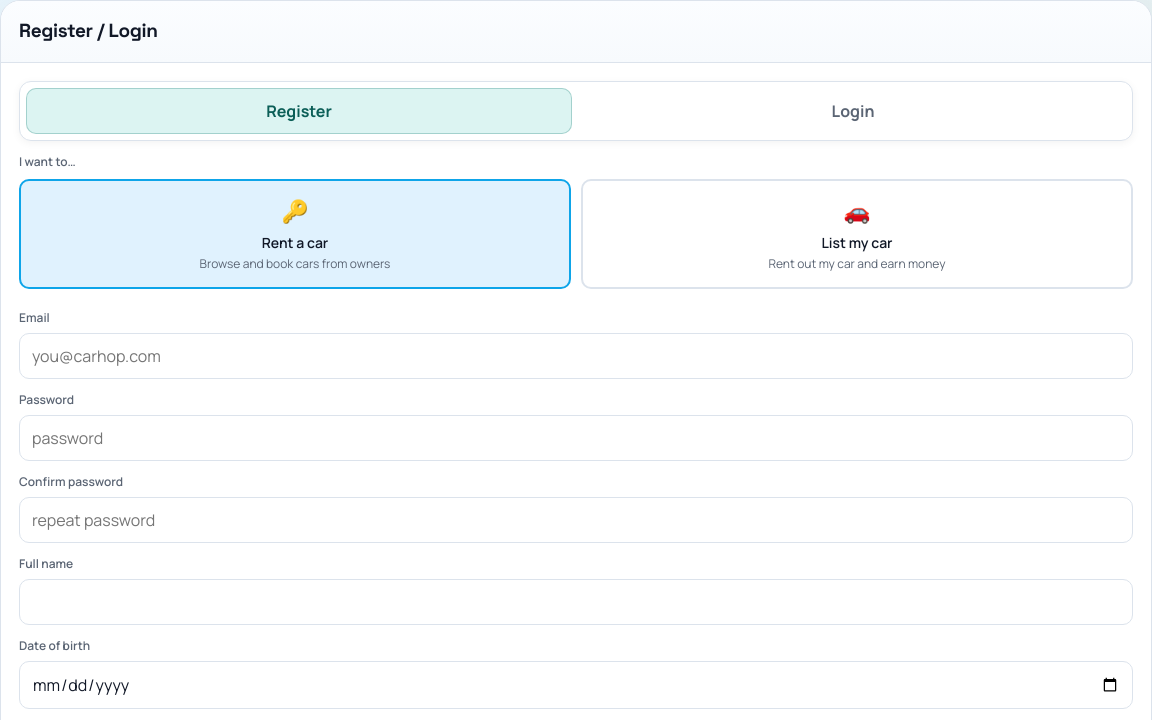
Test case: AuthPage › shows forgot-password form when 'Forgot password?' is clicked
# Switch to login mode first
Step 1. Click the button "Login" → click(853, 110), box [580,88,1126,134]
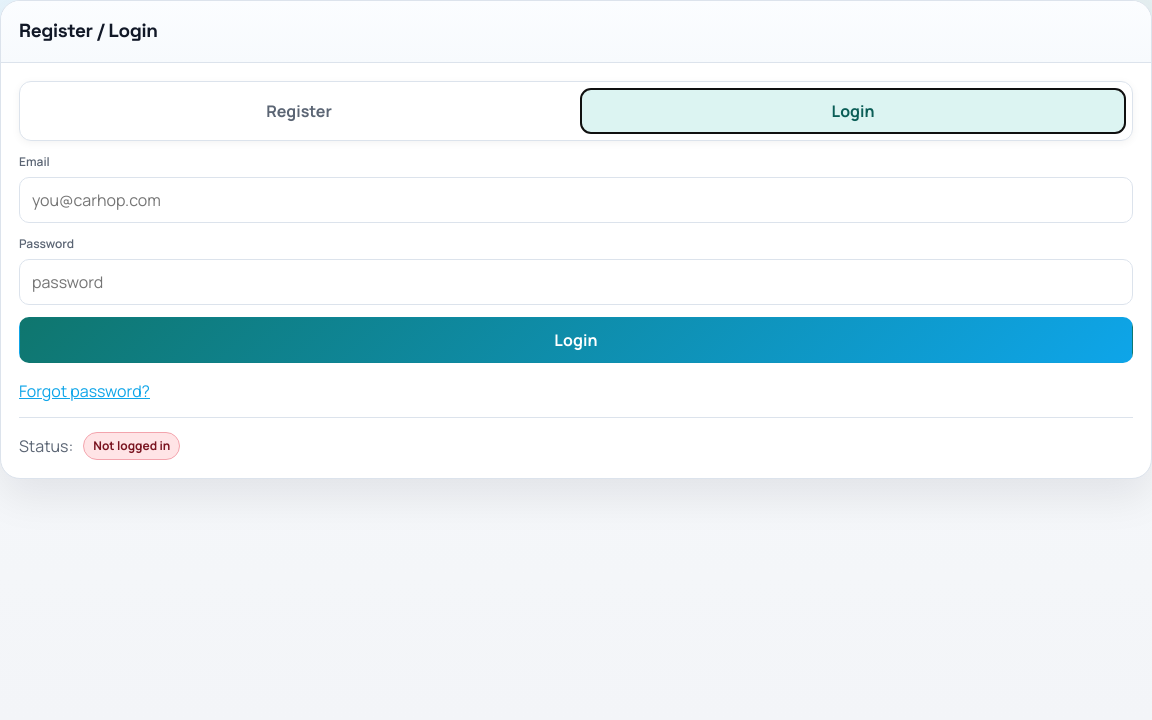
Step 2. Click the button "Forgot password?" → click(84, 390), box [19,378,1133,402]
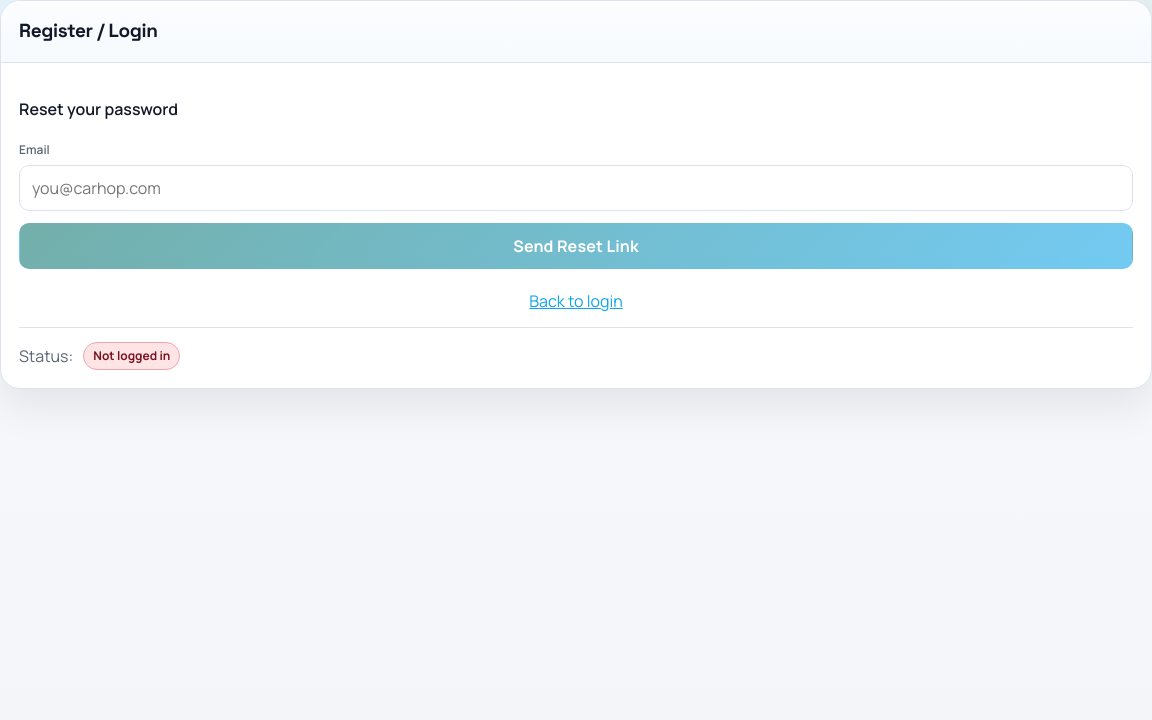
Result: the text "Reset your password" is shown at [19,98,178,120]
Result: the button "Send Reset Link" is shown at [19,222,1133,268]
